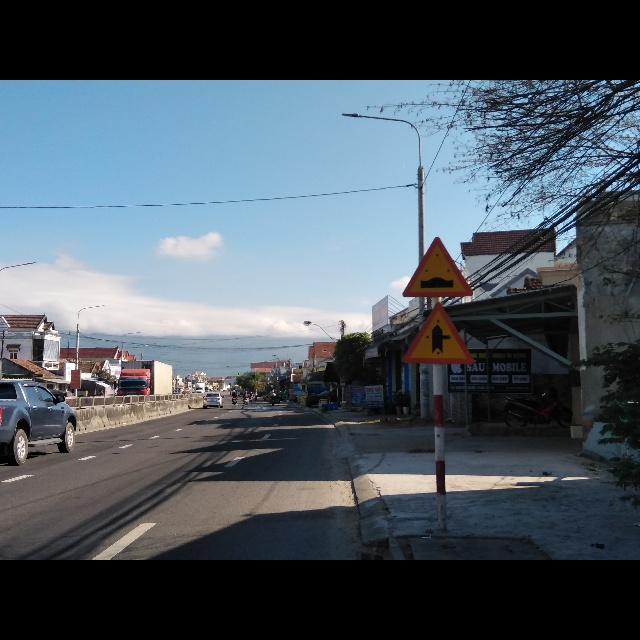Giao nhau với đường không ưu tiên: (400, 301, 475, 365)
Đường không bằng phẳng: (402, 234, 472, 299)
